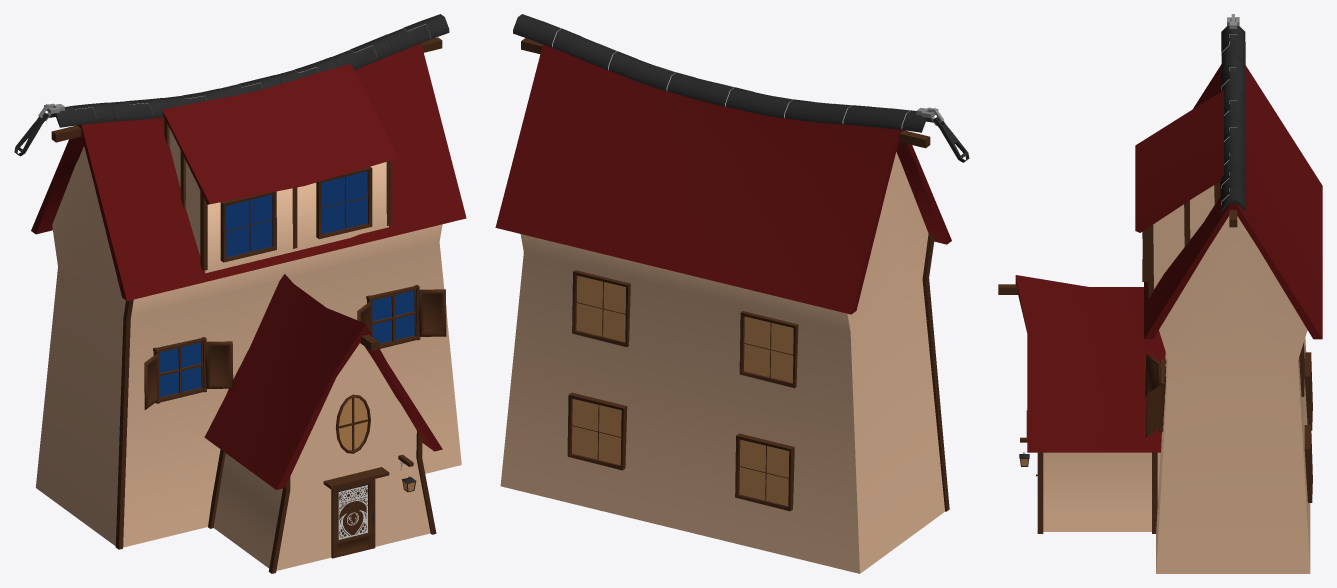
File: HouseVariation.4.fbx
3 views of the same model, side by side, from view 1: azimuth 30°, elevation 25°; view 2: azimuth 150°, elevation 25°; view 3: azimuth 270°, elevation 25° (orthographic). The views are drawn at different scales.
Visible parts, largest first — view 1: HouseVariation.4; view 2: HouseVariation.4; view 3: HouseVariation.4.
Boxes of the visible parts, x1=… form: HouseVariation.4: x1=14, y1=14, x2=466, y2=573; HouseVariation.4: x1=495, y1=14, x2=969, y2=573; HouseVariation.4: x1=998, y1=14, x2=1322, y2=573.
Bounding box in the file's own units: 1602 × 1511 × 1134.
